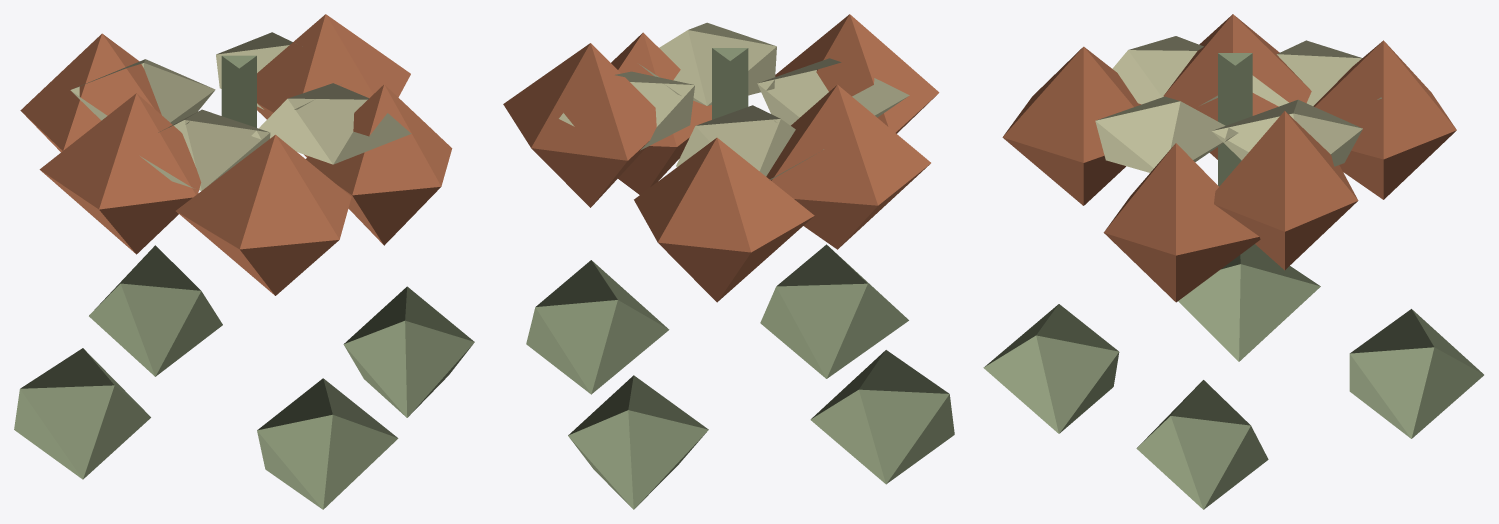
The model's file is shui.lian@fruiting__winter.glb.
3 views of the same model, side by side, from view 1: azimuth 30°, elevation 25°; view 2: azimuth 150°, elevation 25°; view 3: azimuth 270°, elevation 25° (orthographic). The views are drawn at different scales.
Visible parts, largest first — view 1: shui.lian@fruiting__winter; view 2: shui.lian@fruiting__winter; view 3: shui.lian@fruiting__winter.
Part boxes in pixels (x1,y1,x2,y2): shui.lian@fruiting__winter: (14,14,474,509); shui.lian@fruiting__winter: (503,14,954,509); shui.lian@fruiting__winter: (983,14,1483,509).
Bounding box in the file's own units: 1.09 × 0.9148 × 1.09.
